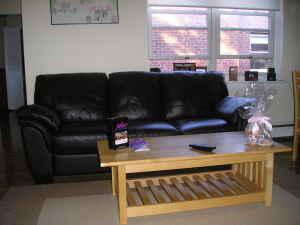Ventana: (152, 5, 281, 70)
